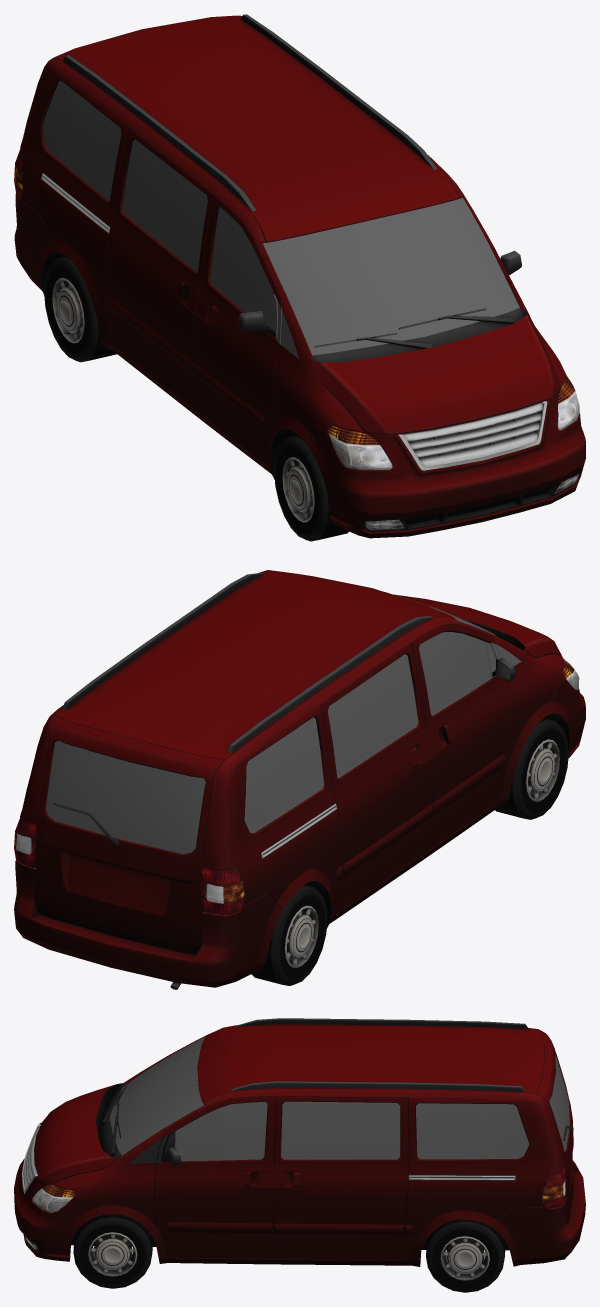
File: pack_minivan.glb
The picture shows the model from 3 angles, top to bottom: view 1: azimuth 30°, elevation 25°; view 2: azimuth 150°, elevation 25°; view 3: azimuth 270°, elevation 25°; orthographic projection. The views are drawn at different scales.
Visible parts, largest first — view 1: minivan body, Wheel_D002, Wheel_D003; view 2: minivan body, Wheel_D003, Wheel_D002; view 3: minivan body, Wheel_D, Wheel_D001.
Boxes of the visible parts, bbox=[...] form: minivan body: bbox=[14, 14, 585, 538]; Wheel_D002: bbox=[274, 435, 348, 541]; Wheel_D003: bbox=[44, 256, 116, 362]; minivan body: bbox=[14, 570, 585, 989]; Wheel_D003: bbox=[251, 884, 327, 985]; Wheel_D002: bbox=[495, 718, 568, 819]; minivan body: bbox=[14, 1018, 585, 1266]; Wheel_D: bbox=[73, 1213, 152, 1288]; Wheel_D001: bbox=[426, 1219, 505, 1292].
Size of the model in its own units: 2.1 by 1.98 by 5.18.
Materials: 4 (3 with a texture image).
